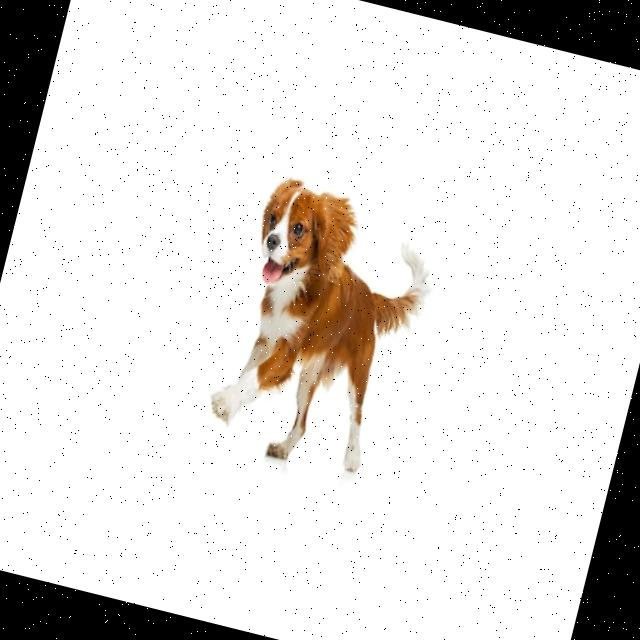Dog: (200, 170, 445, 486)
